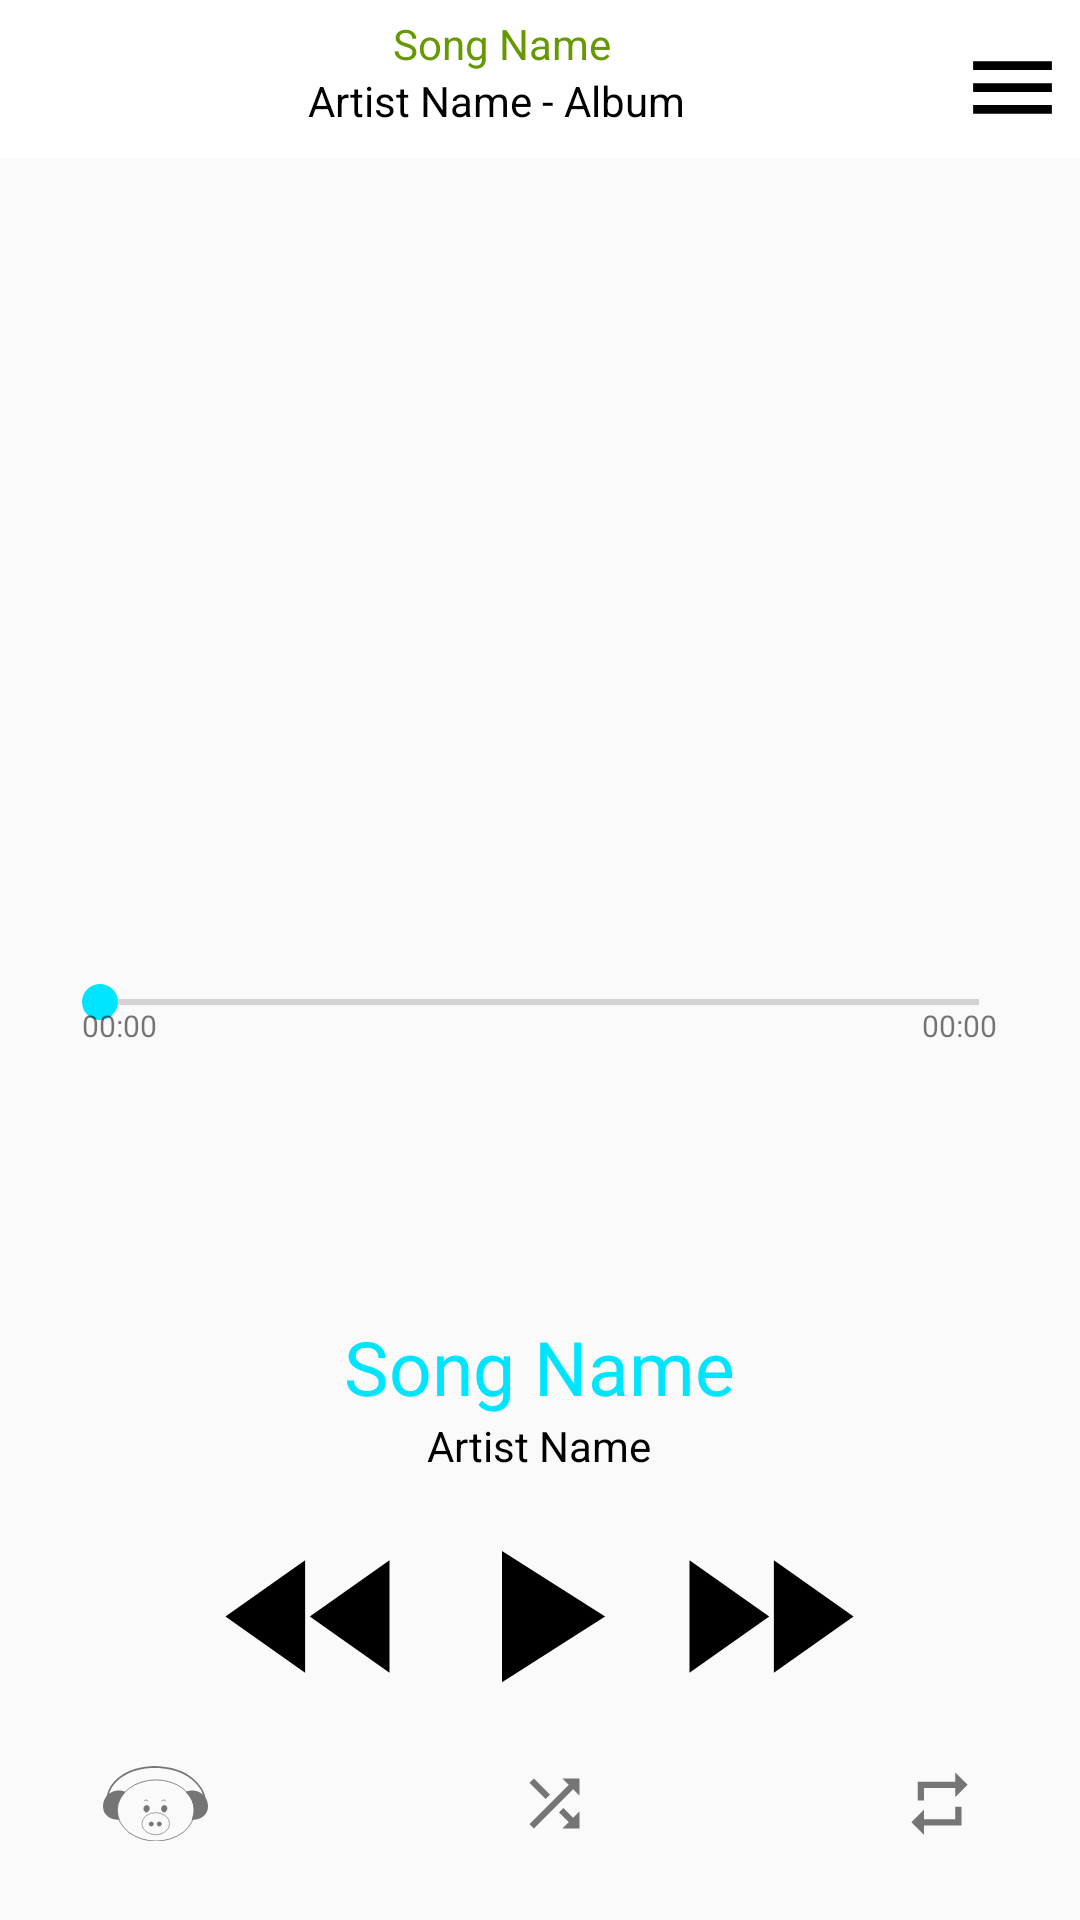

Screen size 1080 × 1920. Icon name, then its box in pixels as {"x1": x1, "y1": y1, "x2": x2, "y2": y2}:
forward panel: {"x1": 689, "y1": 1560, "x2": 854, "y2": 1673}
menu: {"x1": 973, "y1": 61, "x2": 1052, "y2": 114}
play panel: {"x1": 502, "y1": 1551, "x2": 605, "y2": 1682}
repeat panel: {"x1": 911, "y1": 1772, "x2": 968, "y2": 1835}
rewind panel: {"x1": 225, "y1": 1560, "x2": 390, "y2": 1673}
